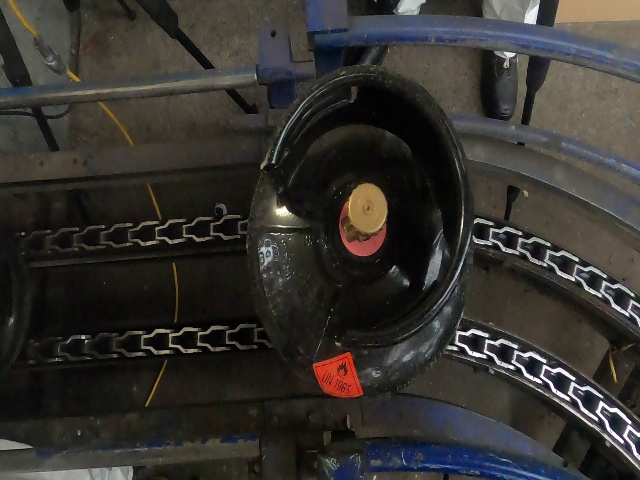gas_bottle: (2, 0, 639, 479)
